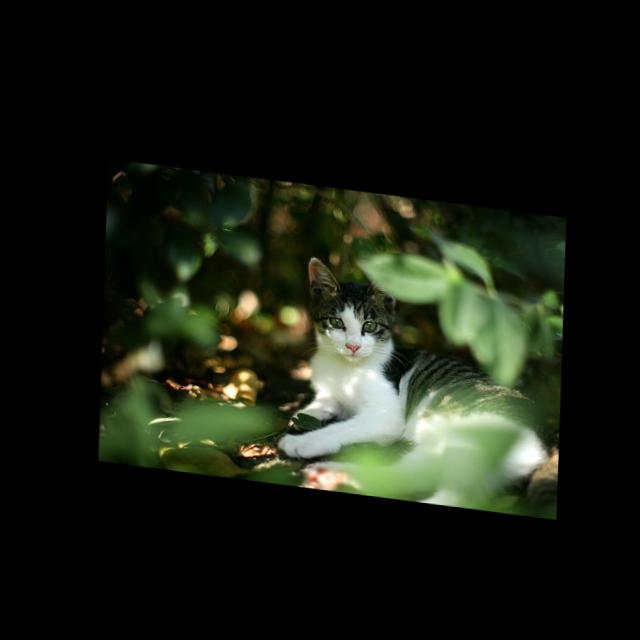animals: (305, 252, 394, 351)
